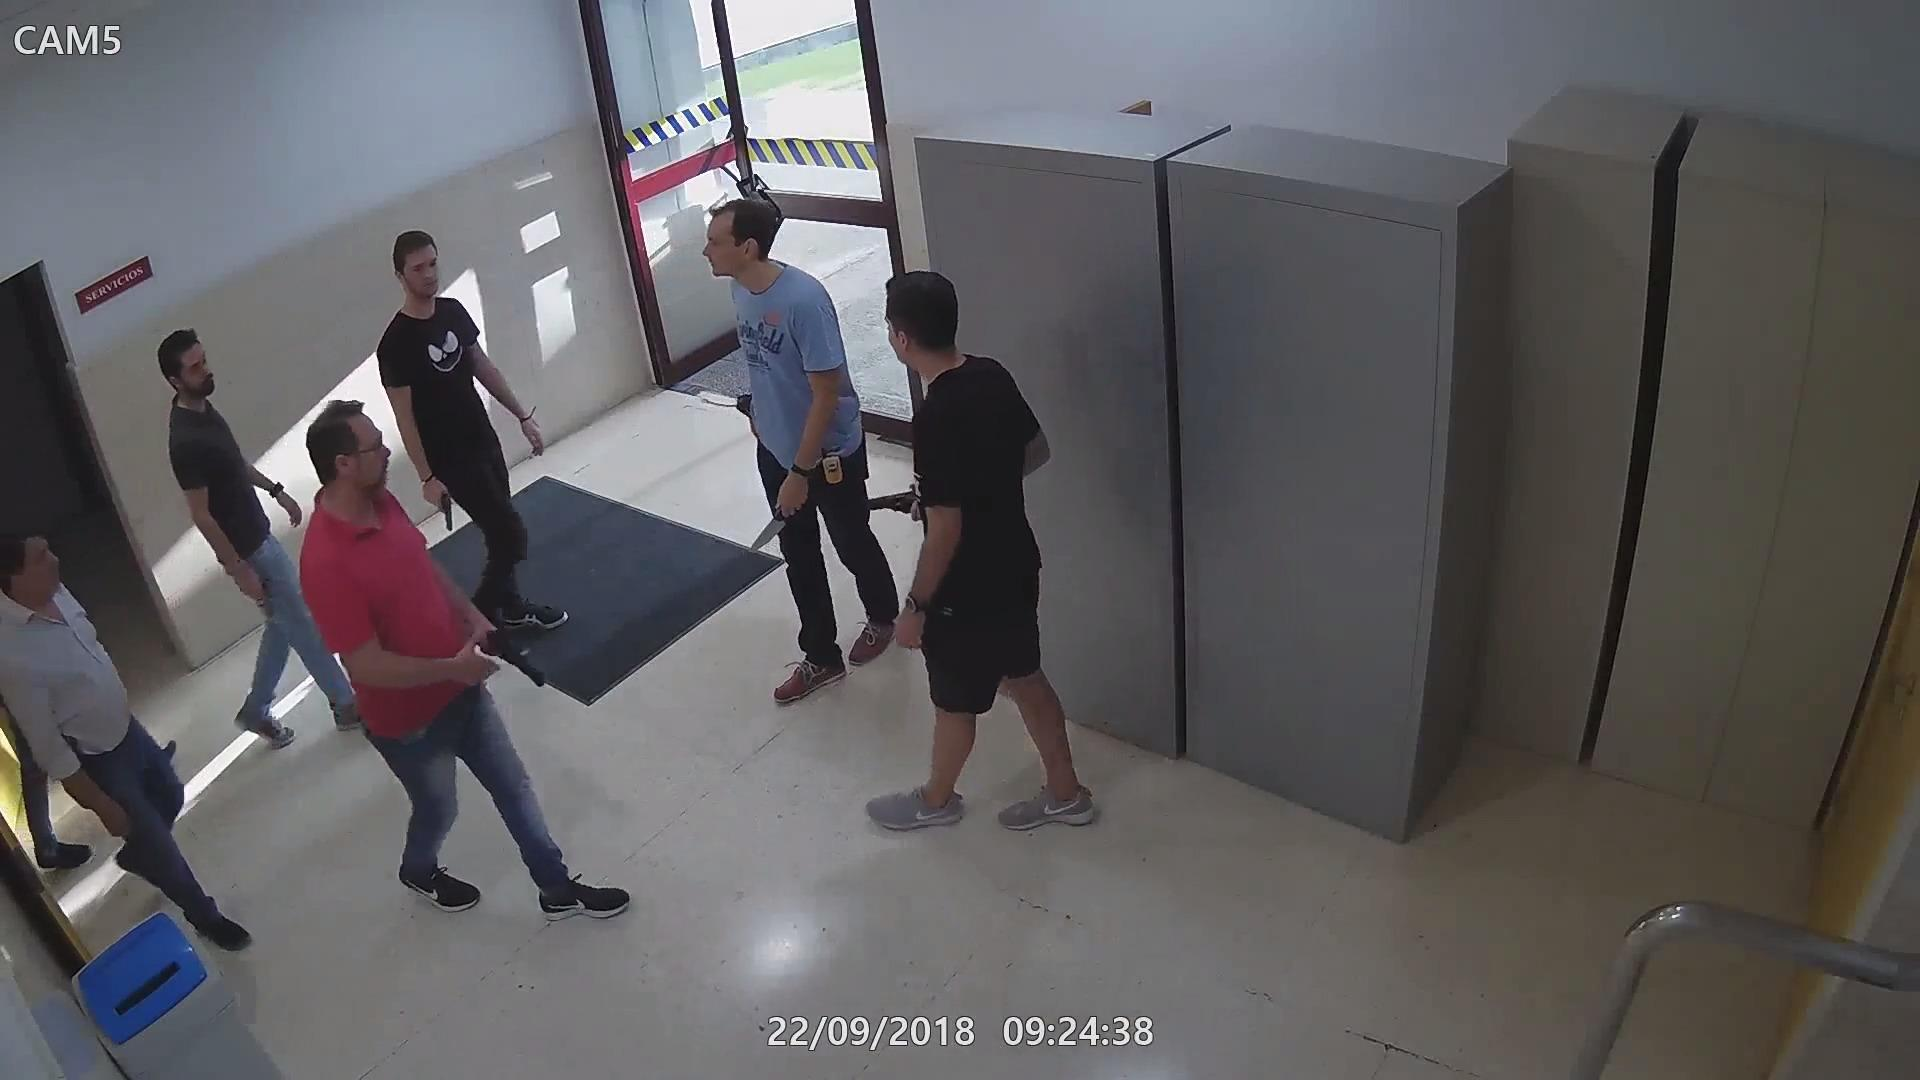Handgun: (472, 624, 547, 688), (847, 485, 926, 543), (227, 550, 282, 622), (418, 469, 458, 533), (731, 385, 758, 429)
